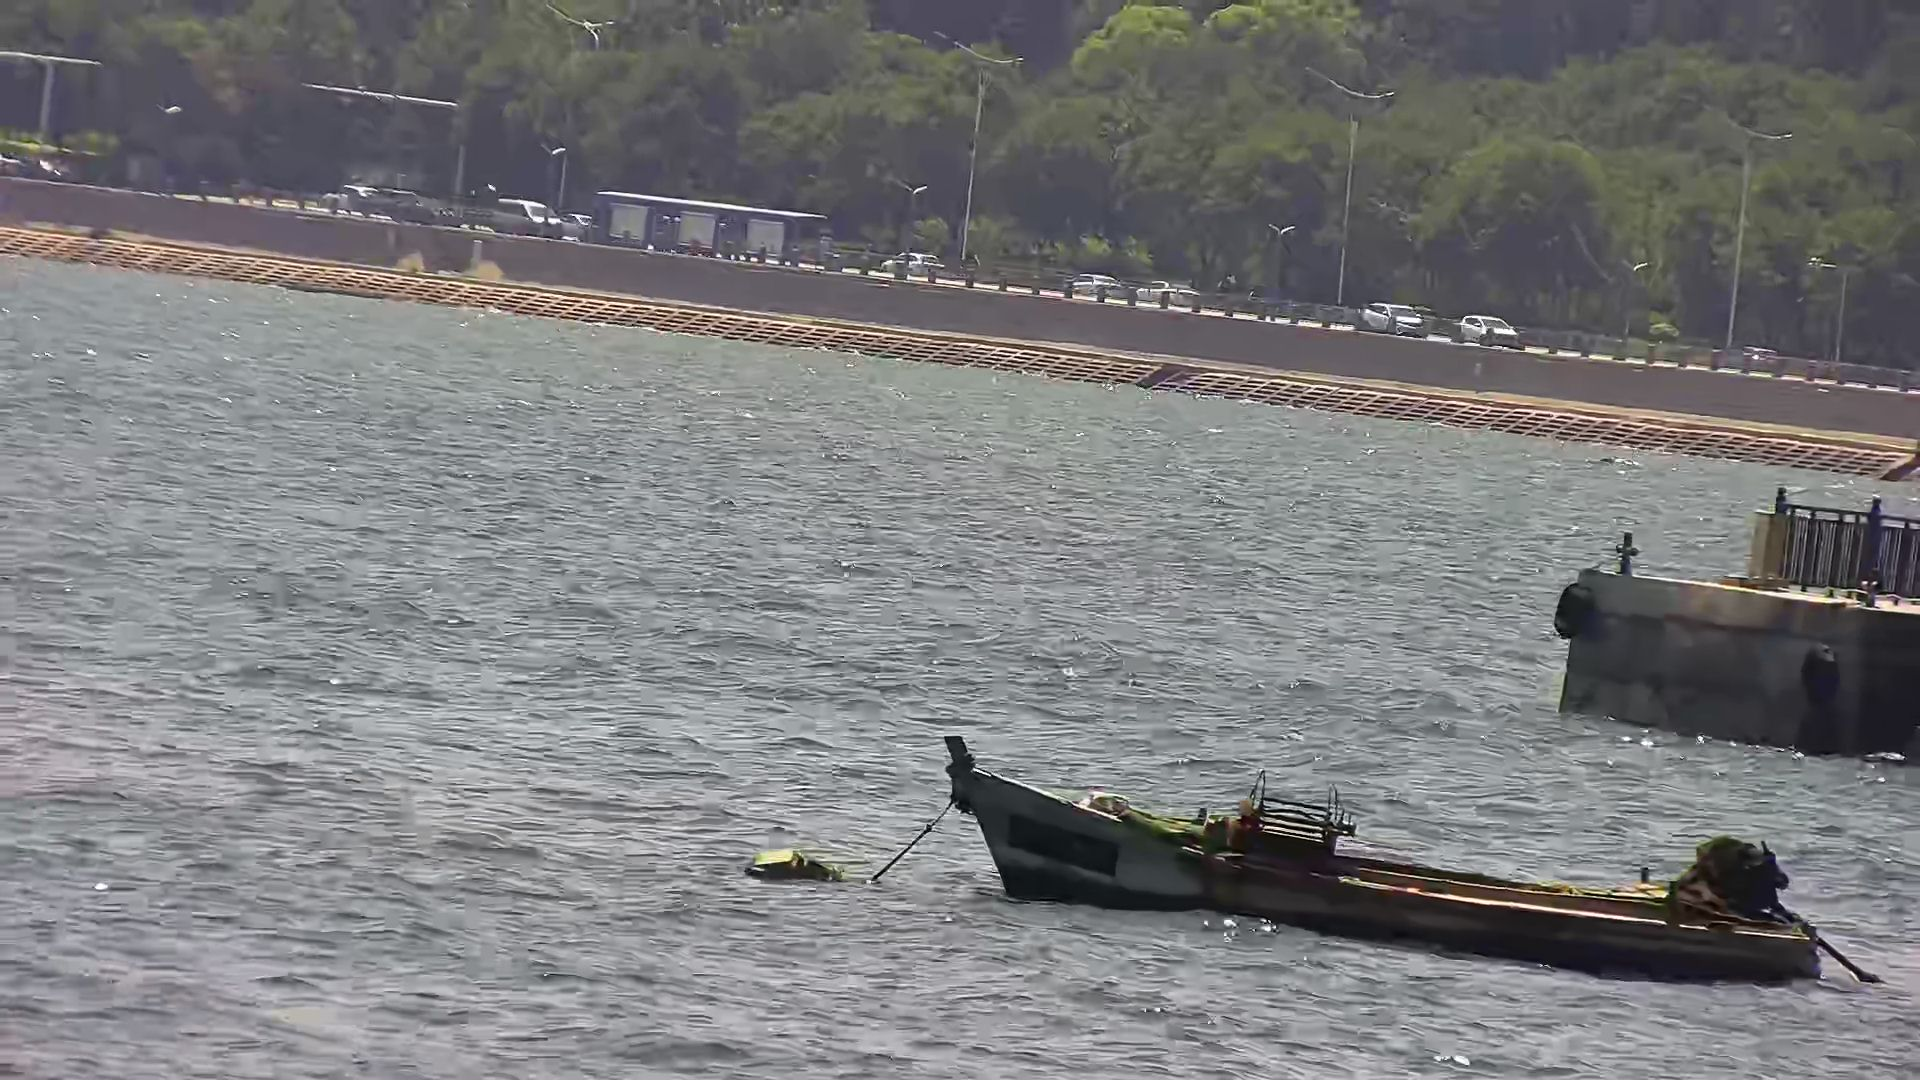boat: (924, 705, 1908, 1018)
harbor: (1542, 469, 1920, 765)
rubbish: (738, 844, 855, 893)
